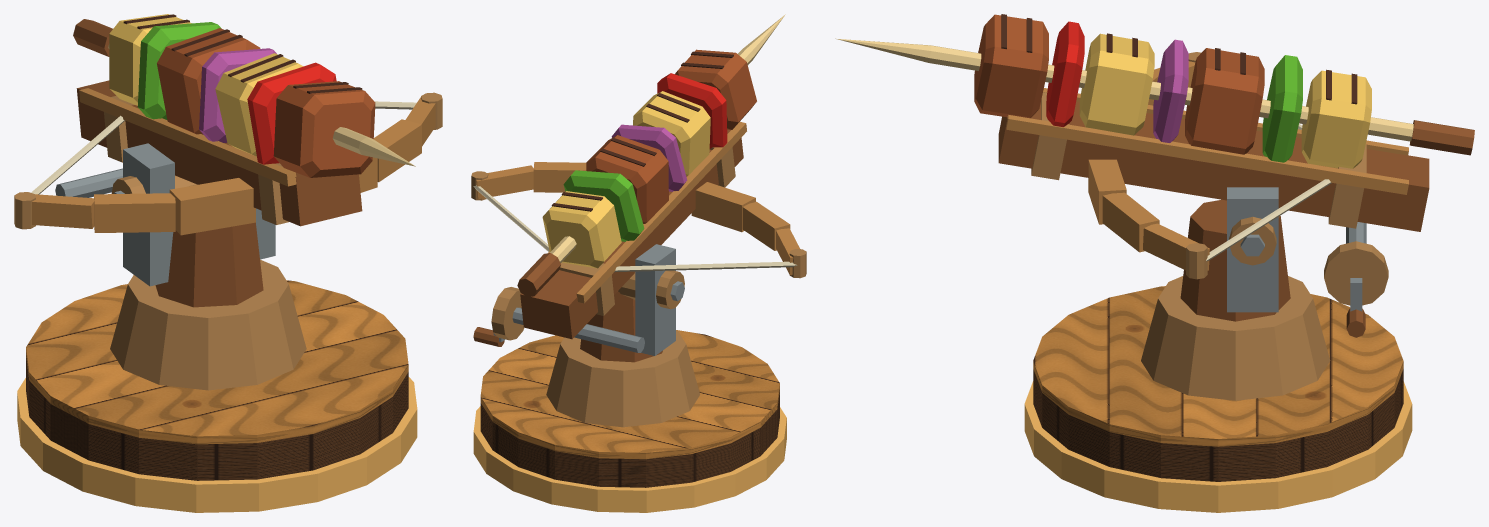
Rendered from Skewer.glb.
3 renders of one model, left to right at view 1: azimuth 30°, elevation 25°; view 2: azimuth 150°, elevation 25°; view 3: azimuth 270°, elevation 25°, orthographic. The views are drawn at different scales.
Visible parts, largest first — view 1: pedestal, Bronze swivel housing, rim, Walnut launcher stock, Grilled front kebab, Wood central mount, Elevating support, Grilled rear kebab, Bow limb -1 0, Golden guide rail, Bow limb -1 1, Golden cheese cube (+17 smaller); view 2: pedestal, Bronze swivel housing, rim, Walnut launcher stock, Golden rear cheese, Grilled rear kebab, Elevating support, Golden cheese cube, Grilled front kebab, Golden guide rail, Green pepper slice, Red pepper slice (+19 smaller); view 3: pedestal, Bronze swivel housing, Walnut launcher stock, rim, Grilled rear kebab, Grilled front kebab, Golden guide rail.001, Golden cheese cube, Golden rear cheese, Wood central mount, Elevating support.001, Green pepper slice (+14 smaller).
Boxes of the visible parts, box(x1,y1,x2,y2) form: pedestal: box(26, 280, 408, 480); Bronze swivel housing: box(110, 259, 306, 390); rim: box(17, 377, 417, 512); Walnut launcher stock: box(76, 80, 362, 226); Grilled front kebab: box(273, 81, 375, 177); Wood central mount: box(155, 222, 263, 307); Elevating support: box(123, 143, 174, 286); Grilled rear kebab: box(157, 28, 260, 134); Bow limb -1 0: box(169, 178, 255, 235); Golden guide rail: box(79, 88, 296, 186); Bow limb -1 1: box(94, 193, 175, 232); Golden cheese cube: box(215, 53, 303, 156); pedestal: box(480, 330, 779, 487); Bronze swivel housing: box(546, 330, 699, 427); rim: box(473, 406, 786, 512); Walnut launcher stock: box(520, 129, 743, 339); Golden rear cheese: box(542, 191, 621, 268); Grilled rear kebab: box(586, 135, 668, 223); Elevating support: box(635, 244, 675, 355); Golden cheese cube: box(633, 91, 710, 175); Grilled front kebab: box(675, 49, 756, 129); Golden guide rail: box(576, 121, 746, 303); Green pepper slice: box(563, 170, 644, 241); Red pepper slice: box(657, 73, 727, 148); pedestal: box(1033, 286, 1403, 481); Bronze swivel housing: box(1141, 276, 1330, 400); Walnut launcher stock: box(998, 101, 1429, 231); rim: box(1024, 381, 1412, 512); Grilled rear kebab: box(1185, 48, 1264, 154); Grilled front kebab: box(974, 14, 1048, 118); Golden guide rail.001: box(1006, 115, 1408, 194); Golden cheese cube: box(1079, 33, 1154, 135); Golden rear cheese: box(1301, 70, 1371, 168); Wood central mount: box(1180, 199, 1290, 321); Elevating support.001: box(1227, 187, 1278, 312); Green pepper slice: box(1262, 55, 1302, 162).
Bounding box in the file's own units: 1.1 × 1.04 × 1.49.
Materials: 15 (2 with a texture image).
